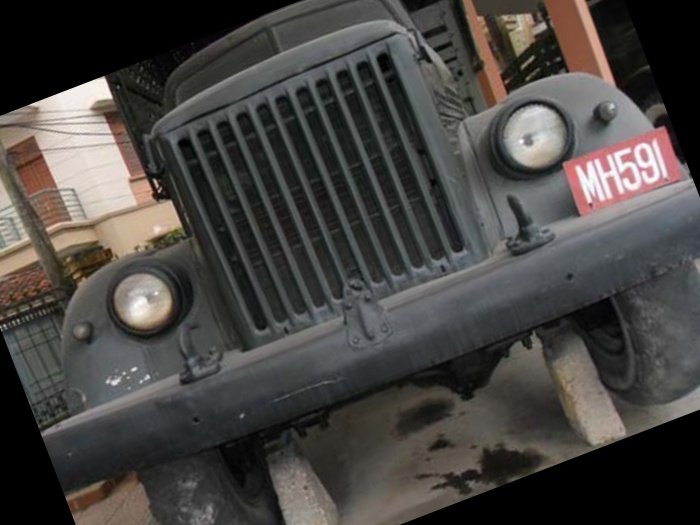plate: (563, 128, 685, 220)
